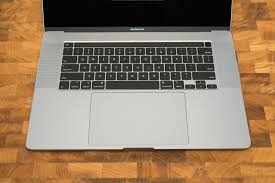keyboard: (56, 35, 224, 97)
